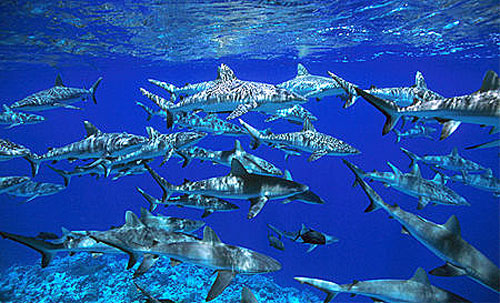Carcharhinus_amblyrhynchos: (5, 66, 498, 301)
